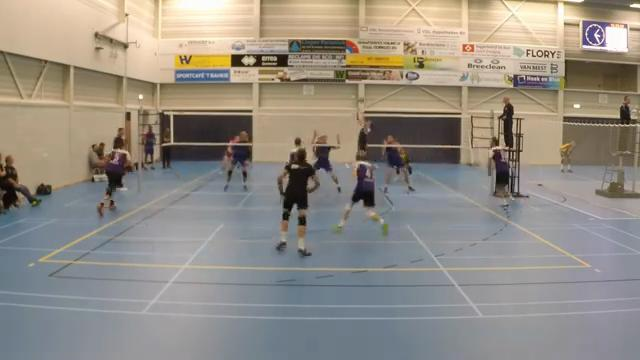alzata: (349, 108, 377, 168)
